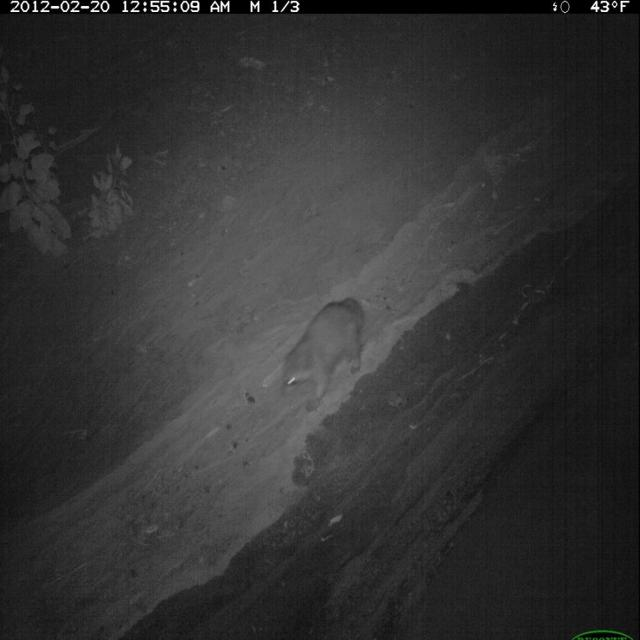raccoon: (277, 291, 373, 419)
